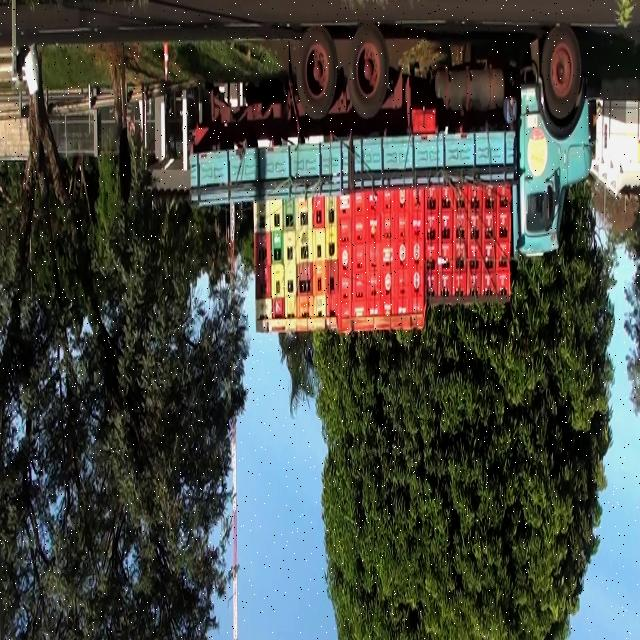-axle: (346, 25, 391, 117), (298, 30, 338, 117), (543, 27, 581, 117)
